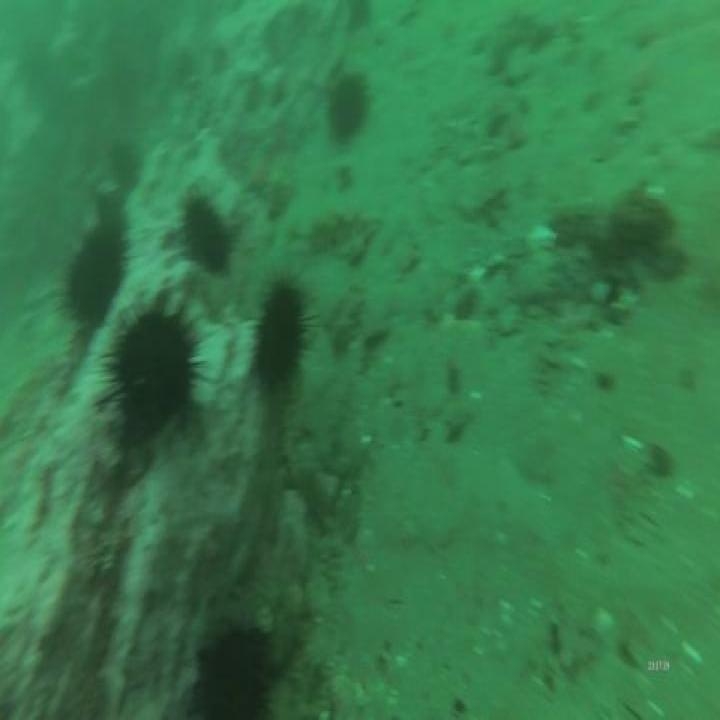echinus: (96, 284, 204, 454), (181, 611, 276, 720), (251, 267, 323, 405), (51, 215, 131, 338), (175, 187, 238, 282), (323, 66, 373, 148), (106, 142, 137, 194)
holothurian: (303, 206, 359, 256)
